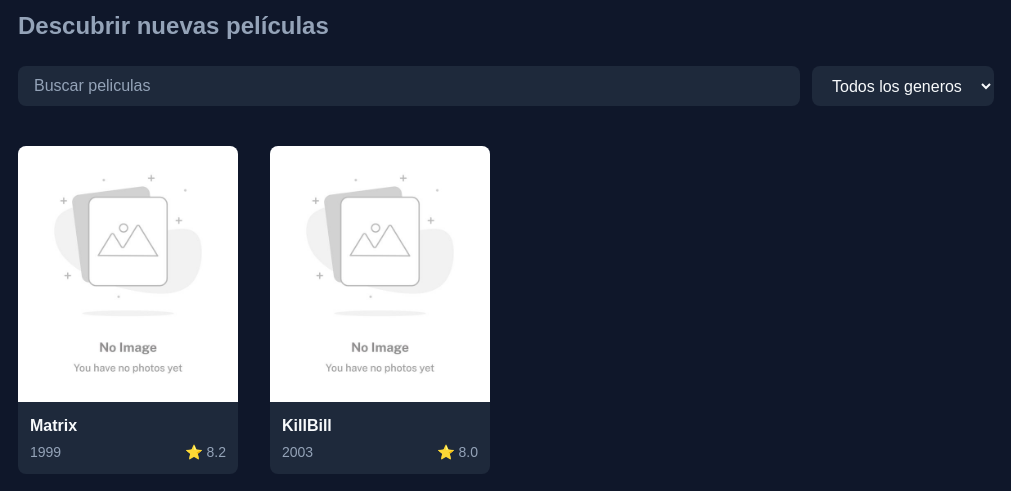
Test: Home Page › shows the empty message when there are no results
The image size is (1011, 491).
Check: the heading "Matrix" is shown, box [30, 417, 77, 434]
Type "zzzzz" into the search field.
click(409, 86); type("zzzzz")  # box [18, 66, 800, 106]
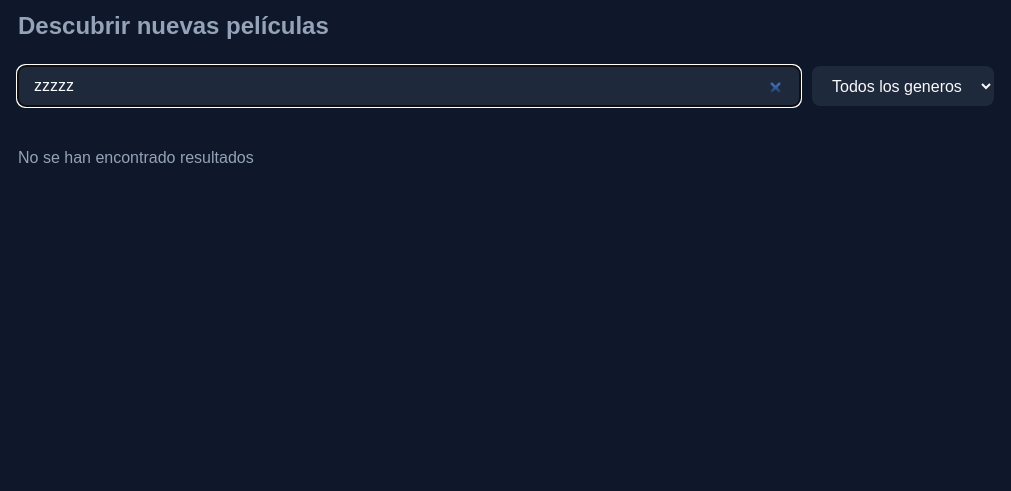
Check: the text "No se han encontrado resultados" is shown, box [18, 149, 254, 166]
